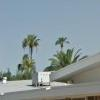Palm tree: (17, 25, 40, 67)
